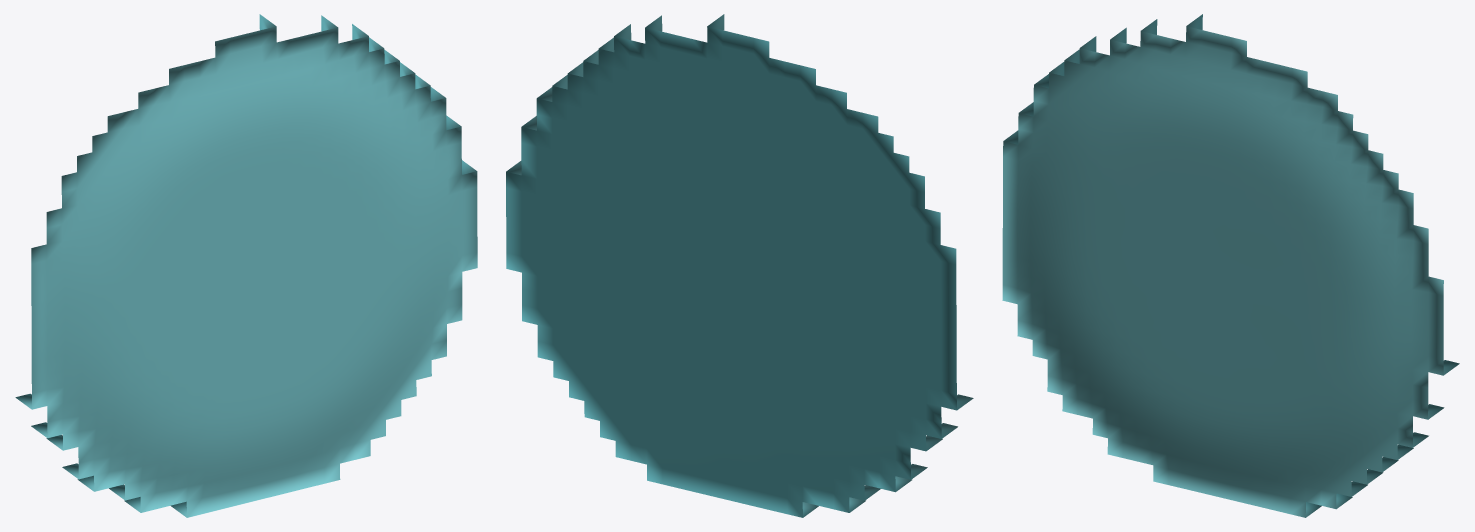
Rendered from PAIR-OFFLOAD-4TH_RIGHT_addon.glb.
3 views of the same model, side by side, from view 1: azimuth 30°, elevation 25°; view 2: azimuth 150°, elevation 25°; view 3: azimuth 330°, elevation 25° (orthographic). The views are drawn at different scales.
Parts seen in each view (by area): view 1: world; view 2: world; view 3: world.
Part boxes in pixels (box(x1,y1,x2,y2)): world: box(15, 14, 477, 517); world: box(506, 14, 973, 517); world: box(1002, 14, 1459, 517).
Size of the model in its own units: 29 by 29 by 2.86.
